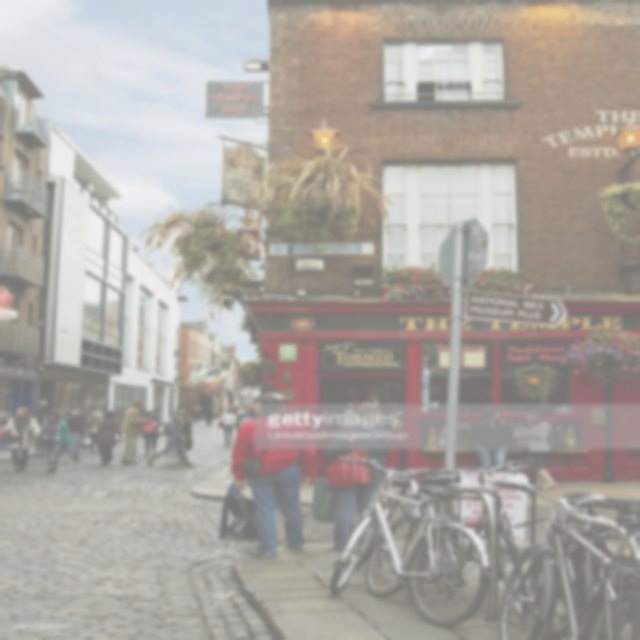pessoa: (228, 392, 316, 558), (322, 398, 394, 553), (142, 410, 198, 469), (522, 407, 558, 491), (0, 405, 42, 473), (468, 406, 514, 468), (34, 408, 75, 473), (89, 408, 125, 466), (120, 400, 151, 466), (34, 407, 66, 463), (62, 403, 87, 463), (83, 410, 104, 453), (140, 410, 160, 454), (215, 407, 238, 445), (66, 406, 82, 456), (245, 396, 268, 426), (179, 415, 194, 451), (224, 402, 253, 418), (204, 405, 214, 427), (190, 404, 200, 424), (234, 417, 243, 432), (214, 401, 224, 414), (174, 405, 184, 413)
